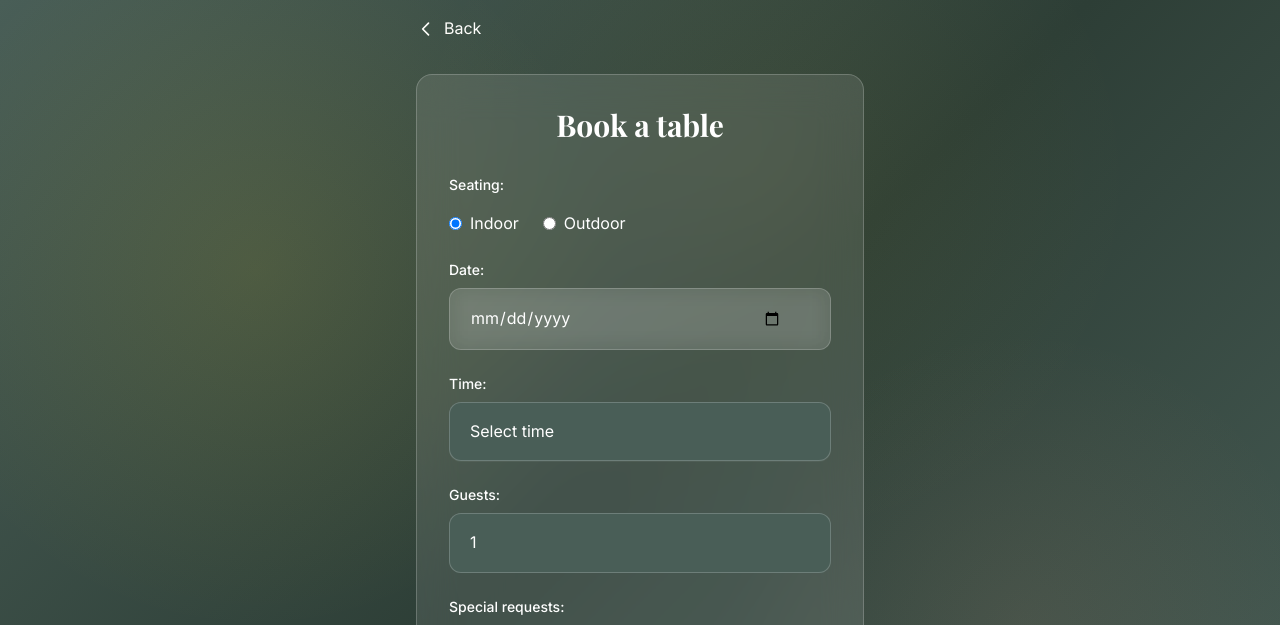
BookingForm › allows selecting different seating options
Expected: the radio button labelled "Indoor" is checked, [449, 217, 462, 230]
Click the radio button labelled "Outdoor".
click(549, 223)  # box [543, 217, 556, 230]
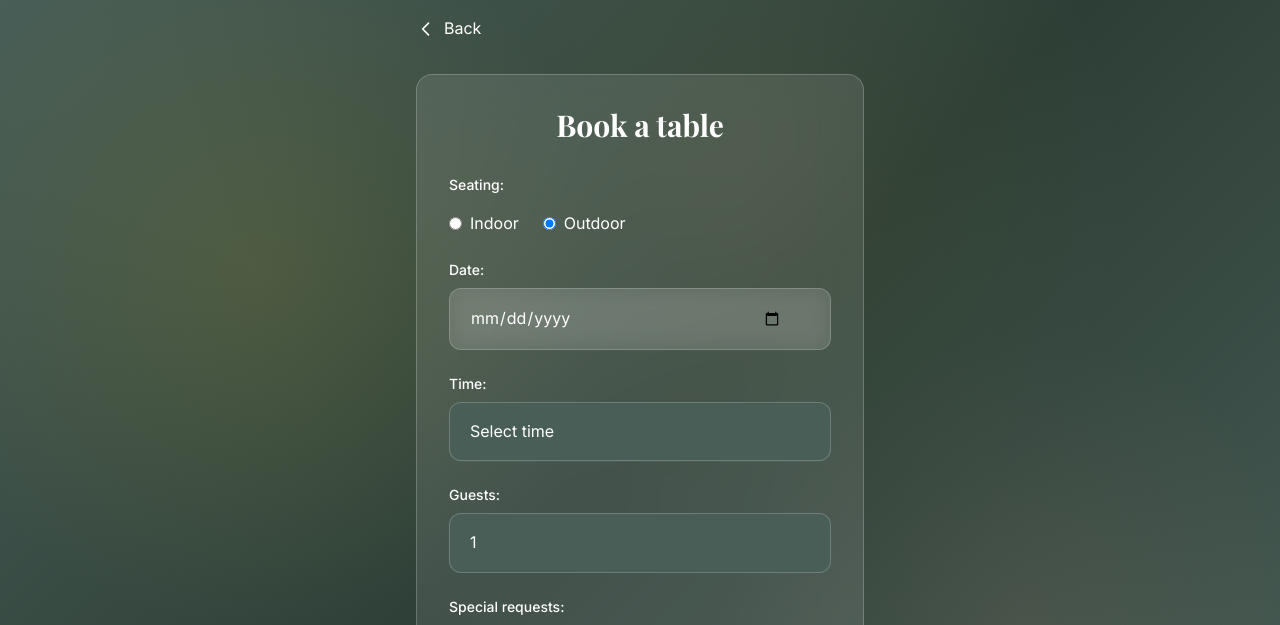
Now the radio button labelled "Outdoor" is checked, box [543, 217, 556, 230]
Now the radio button labelled "Indoor" is not checked, box [449, 217, 462, 230]
